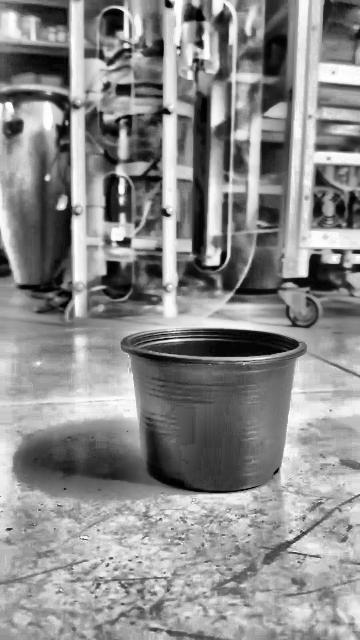pot: (121, 327, 306, 491)
